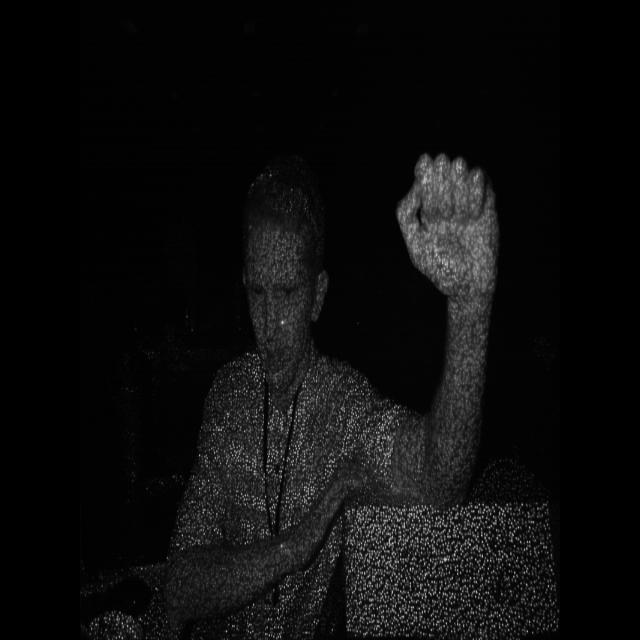A: (394, 132, 550, 387)
